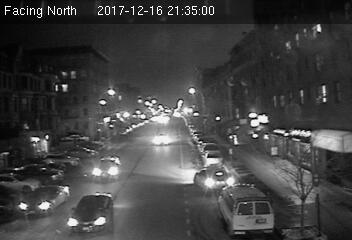car: (68, 192, 115, 234), (16, 184, 70, 216), (194, 167, 237, 196), (92, 154, 122, 183), (202, 149, 223, 168), (152, 133, 172, 147)
police: (217, 184, 275, 234)
